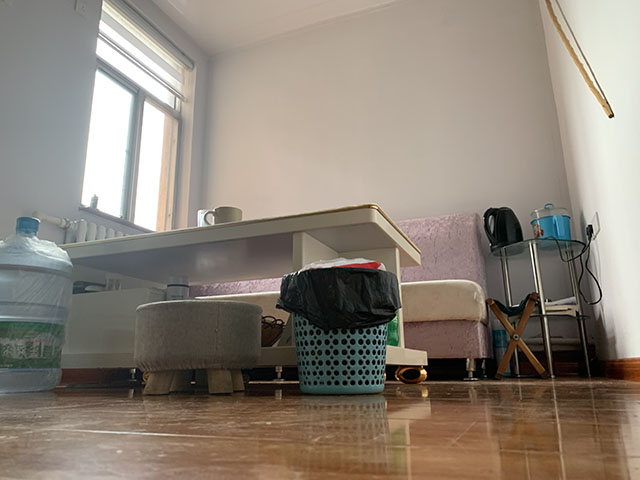sofa: (394, 212, 491, 382)
stool: (133, 298, 264, 397), (486, 291, 551, 381)
table: (55, 202, 430, 385), (486, 237, 595, 380)
trashcan: (274, 257, 403, 396)
